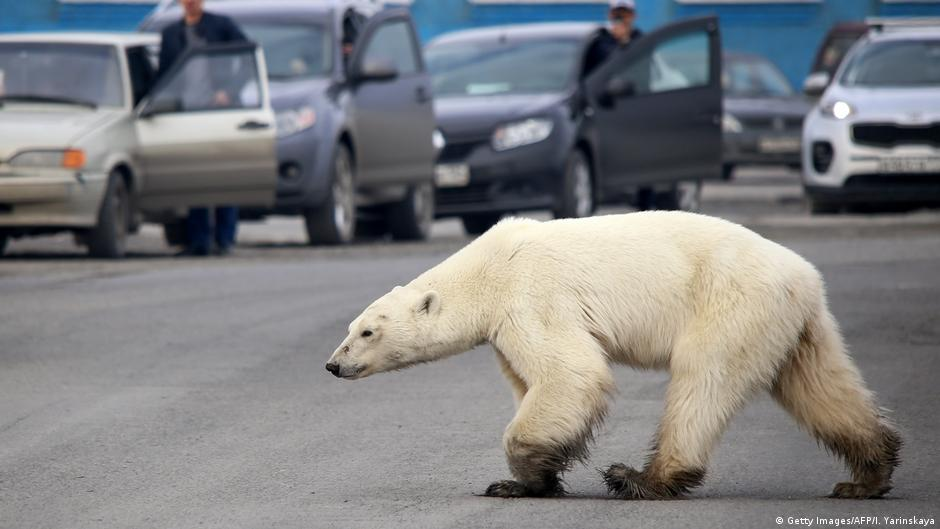PolarBear: (304, 197, 922, 513)
